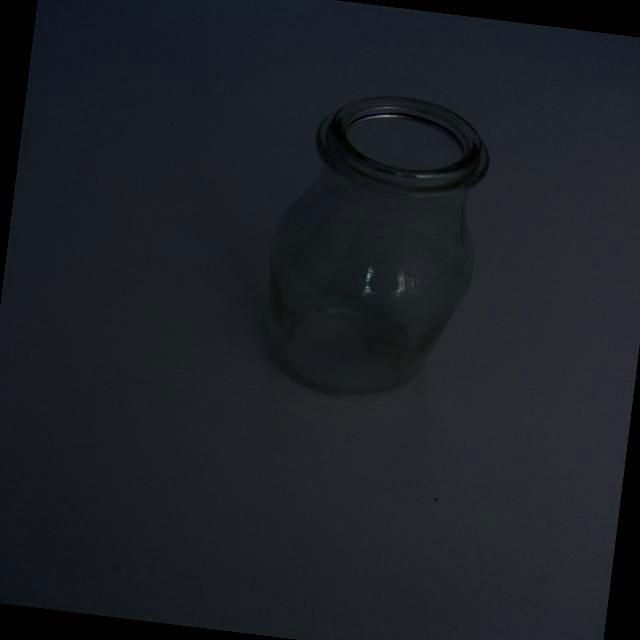glass: (235, 68, 518, 418)
